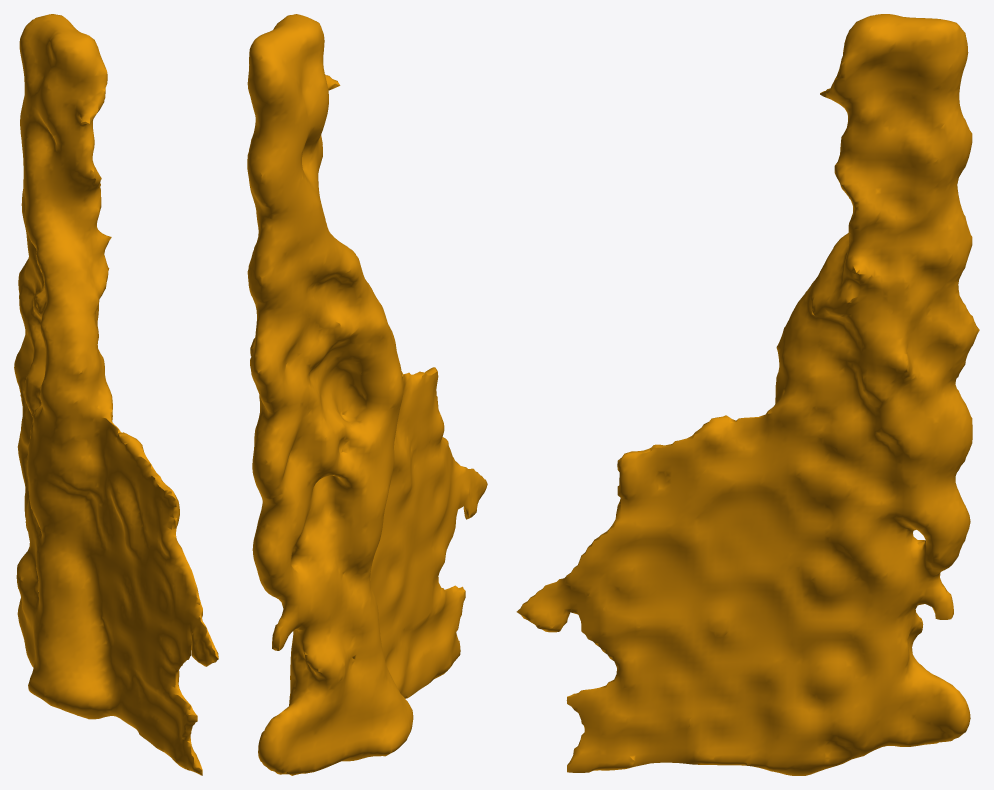
Rendered from honey01_092023.glb.
3 renders of one model, left to right at view 1: azimuth 30°, elevation 25°; view 2: azimuth 150°, elevation 25°; view 3: azimuth 270°, elevation 25°, orthographic. The views are drawn at different scales.
Visible parts, largest first — view 1: merge1.005; view 2: merge1.005; view 3: merge1.005.
Boxes of the visible parts, box(x1,y1,x2,y2) form: merge1.005: box(14, 14, 218, 775); merge1.005: box(247, 14, 487, 775); merge1.005: box(516, 14, 979, 775).
Bounding box in the file's own units: 8.84 × 58.43 × 32.01.
